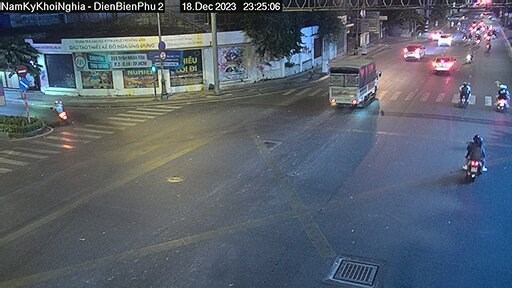car: (429, 52, 461, 77), (405, 41, 428, 63), (437, 30, 453, 49)
motorbike: (464, 131, 484, 180), (493, 83, 512, 112), (456, 79, 472, 106)
truck: (326, 56, 384, 108)
